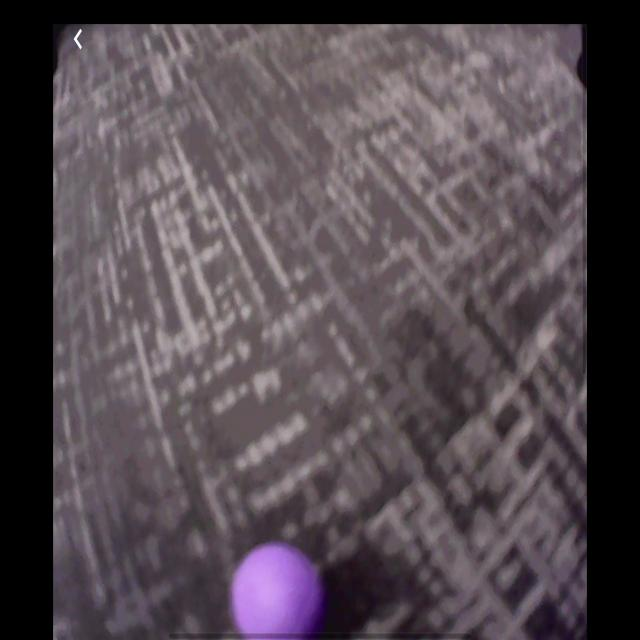ball: (230, 541, 326, 639)
